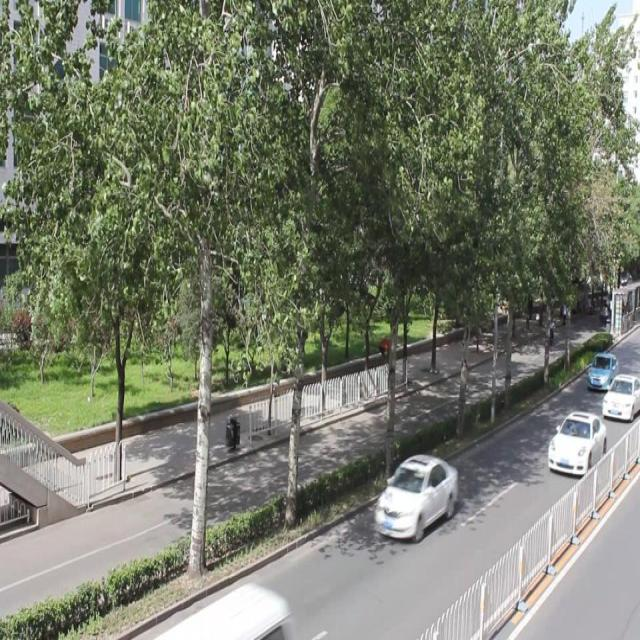car: (374, 454, 458, 538), (546, 409, 606, 475), (599, 374, 640, 418), (585, 352, 618, 389)
truck: (168, 582, 290, 640)
